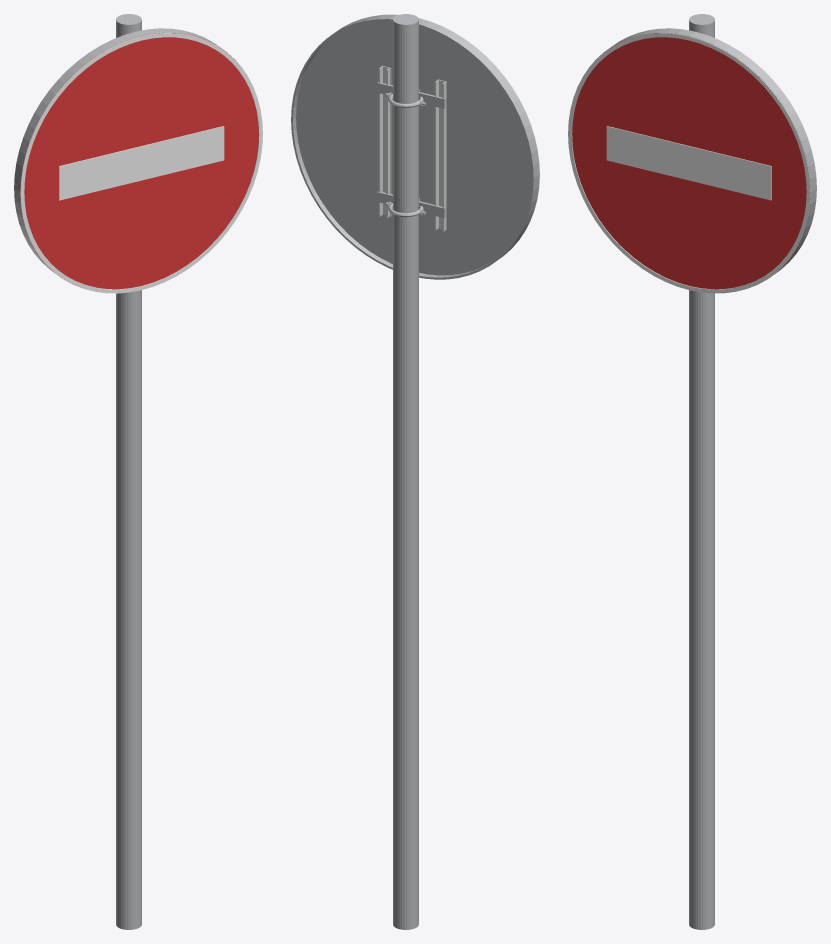
The picture shows the model from 3 angles, left to right: view 1: azimuth 30°, elevation 25°; view 2: azimuth 150°, elevation 25°; view 3: azimuth 330°, elevation 25°; orthographic projection.
Parts seen in each view (by area): view 1: sens-interdit; view 2: sens-interdit; view 3: sens-interdit.
Boxes of the visible parts, bbox=[...] form: sens-interdit: bbox=[14, 14, 262, 929]; sens-interdit: bbox=[291, 14, 539, 929]; sens-interdit: bbox=[568, 14, 816, 929].
Size of the model in its own units: 0.6509 by 2.32 by 0.1006.
